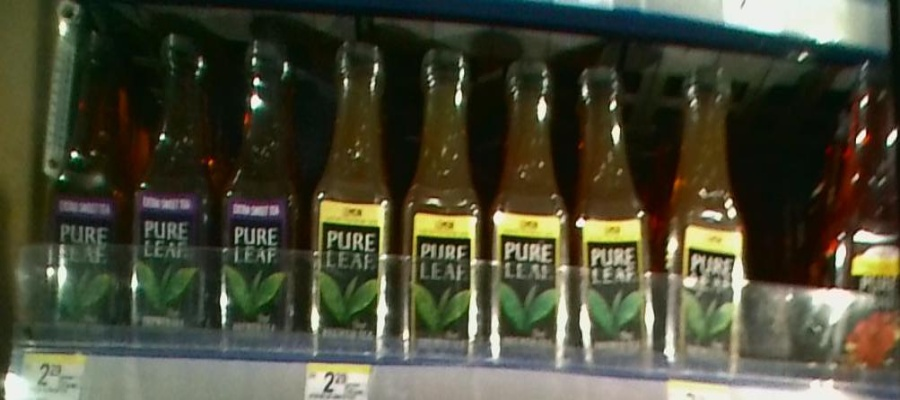bottle: (396, 26, 489, 364), (300, 32, 395, 360), (661, 66, 754, 380), (570, 49, 659, 372), (217, 30, 298, 360), (47, 20, 130, 342), (135, 26, 212, 359), (492, 41, 569, 368), (828, 48, 896, 374)
